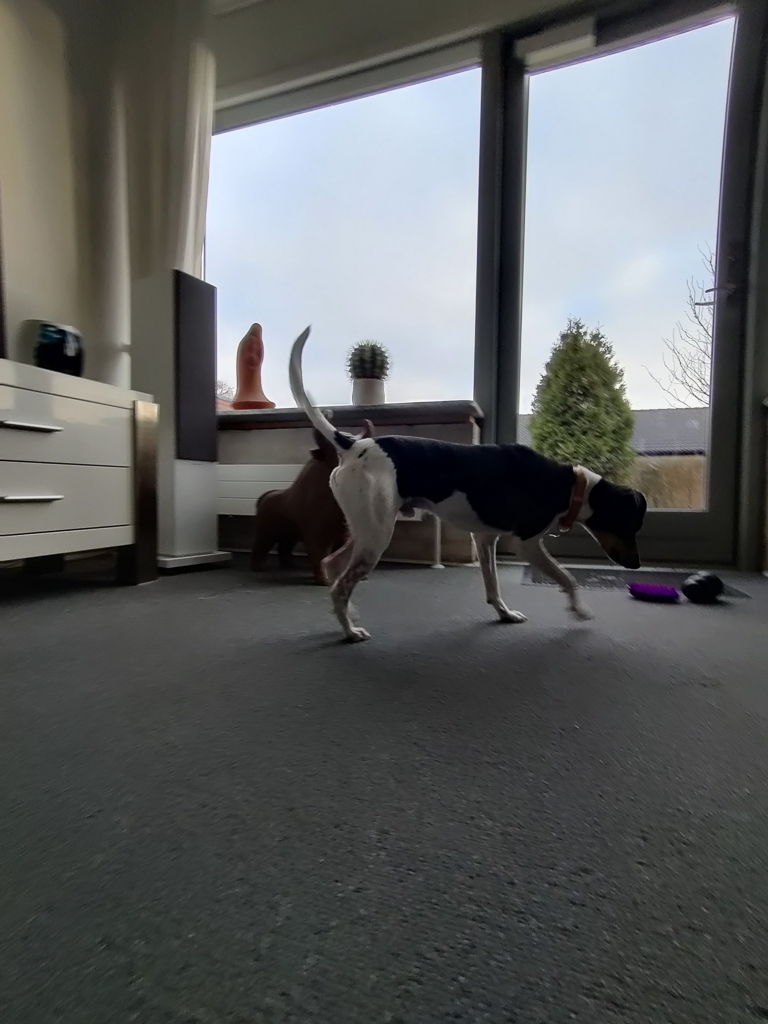Cattle: (244, 405, 388, 592)
Dog: (284, 321, 658, 646)
Humanoid: (228, 319, 277, 403)
